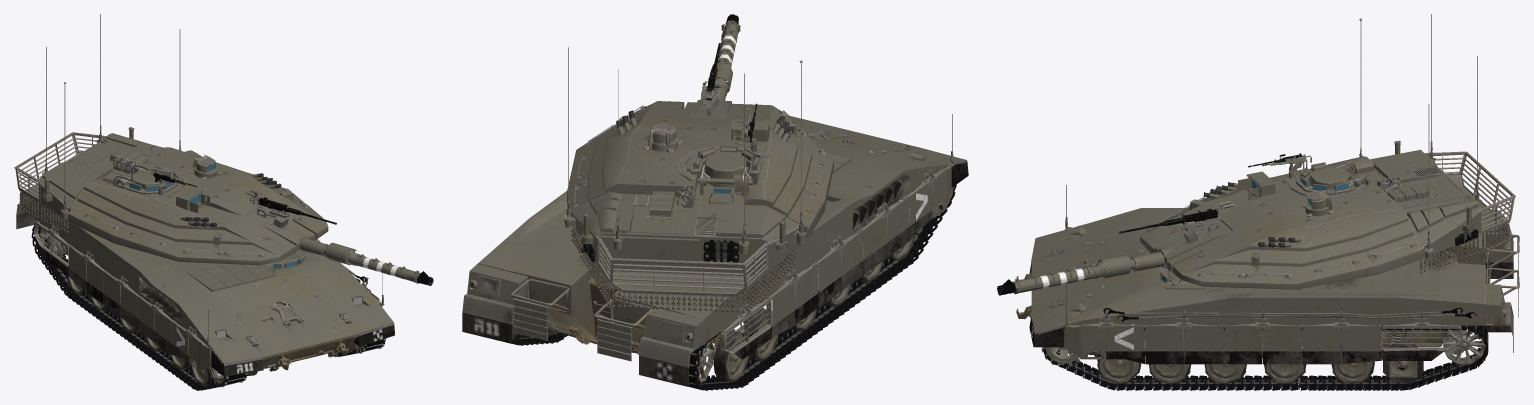
The model's file is merkava.glb.
The picture shows the model from 3 angles, left to right: view 1: azimuth 30°, elevation 25°; view 2: azimuth 150°, elevation 25°; view 3: azimuth 270°, elevation 25°; orthographic projection. The views are drawn at different scales.
Parts seen in each view (by area): view 1: merkava_mk4; view 2: merkava_mk4; view 3: merkava_mk4.
Part boxes in pixels (x1,y1,x2,y2): merkava_mk4: (14,14,433,390); merkava_mk4: (462,14,968,390); merkava_mk4: (997,14,1519,390).
Size of the model in its own units: 5.9 by 6.36 by 10.71.
Materials: 1 (1 with a texture image).
